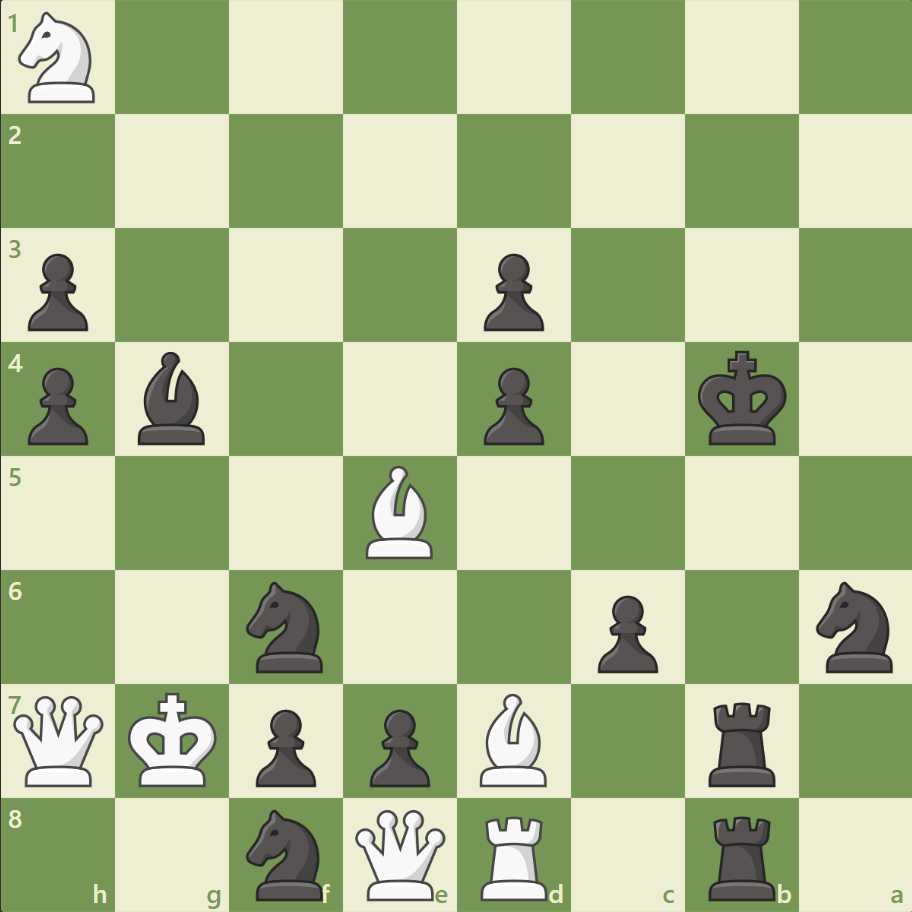B: (471, 687, 555, 790), (358, 460, 442, 563)
K: (124, 685, 224, 793)
N: (11, 7, 108, 110)
Q: (351, 804, 450, 903), (10, 690, 109, 789)
R: (473, 806, 556, 904)
b: (131, 347, 215, 449)
k: (692, 344, 792, 452)
n: (238, 802, 335, 904), (806, 575, 903, 677), (238, 575, 335, 677)
p: (247, 700, 322, 791), (474, 359, 549, 450), (20, 359, 95, 450), (474, 246, 549, 337), (20, 246, 95, 337), (361, 700, 435, 791), (588, 586, 662, 677)
r: (700, 806, 783, 904), (700, 693, 783, 790)
